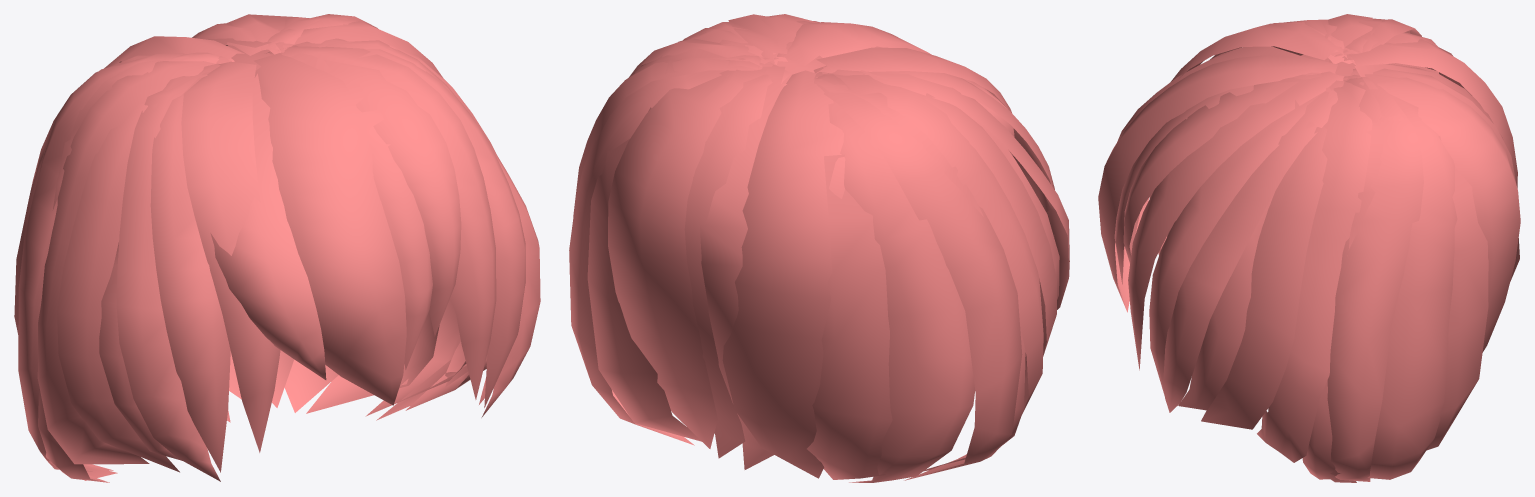
The model's file is hair4.glb.
3 renders of one model, left to right at view 1: azimuth 30°, elevation 25°; view 2: azimuth 150°, elevation 25°; view 3: azimuth 270°, elevation 25°, orthographic. The views are drawn at different scales.
Parts seen in each view (by area): view 1: Hair4; view 2: Hair4; view 3: Hair4.
Part boxes in pixels (x1,y1,x2,y2): Hair4: (14, 14, 540, 482); Hair4: (569, 14, 1069, 482); Hair4: (1098, 14, 1520, 482).
Bounding box in the file's own units: 0.0118 × 0.00991 × 0.0103.
